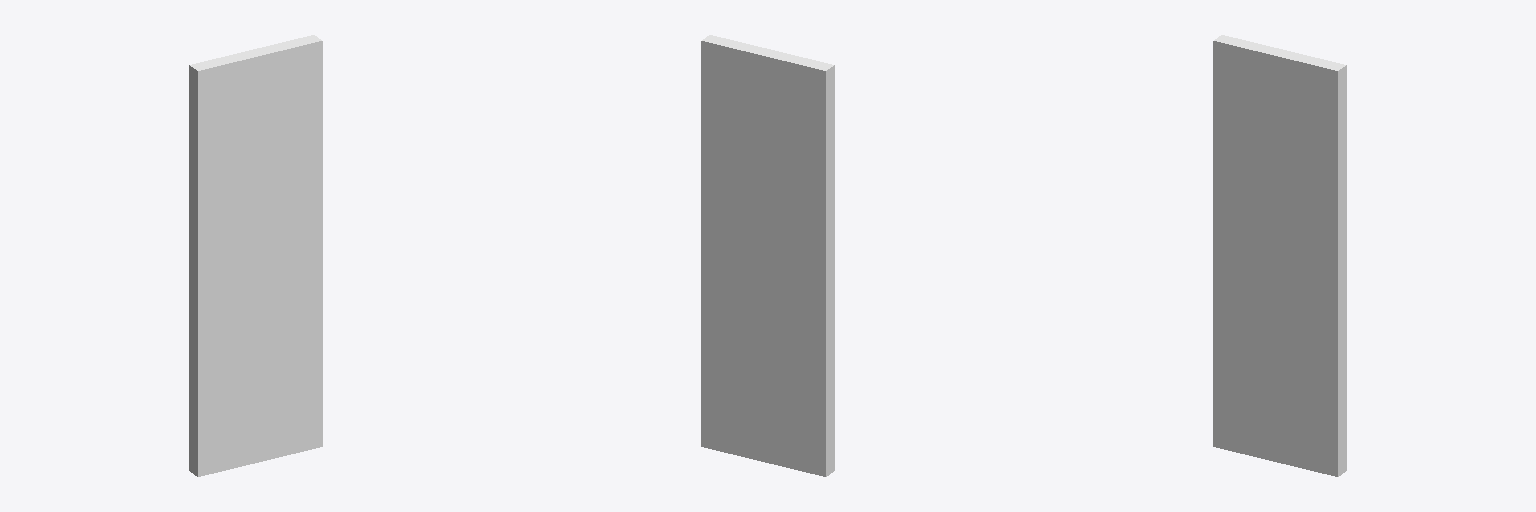
The model's file is BrickVeneer2.obj.
The picture shows the model from 3 angles: view 1: azimuth 30°, elevation 25°; view 2: azimuth 150°, elevation 25°; view 3: azimuth 330°, elevation 25°; orthographic projection.
Visible parts, largest first — view 1: BrickVeneer2.obj; view 2: BrickVeneer2.obj; view 3: BrickVeneer2.obj.
Boxes of the visible parts, x1,y1,x2,y2 form: BrickVeneer2.obj: [189, 35, 322, 476]; BrickVeneer2.obj: [701, 35, 834, 476]; BrickVeneer2.obj: [1213, 35, 1346, 476].
Bounding box in the file's own units: 0.8795 × 2.74 × 0.1016.